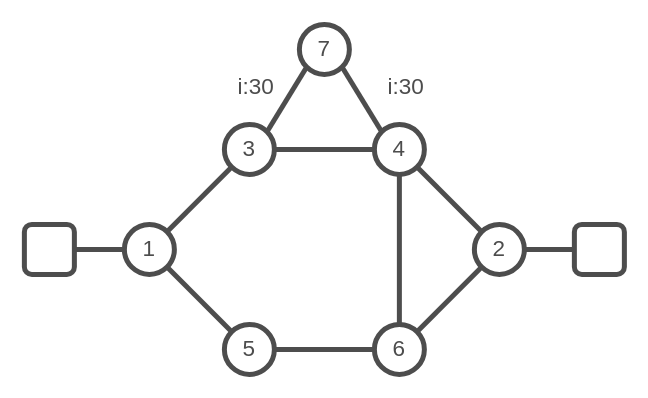
Image size: 648x398. Some labels were removed from this diagram. The shapes that lost their labels are listed below. From the top down, each one's centre as x and y in pixels, then its label:
At point (48, 248): "lx1".
At point (598, 248): "lx2".
